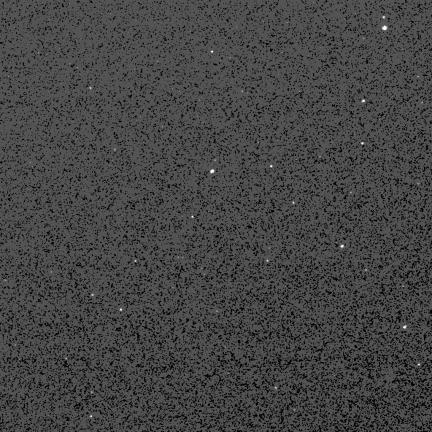blob: (382, 26, 387, 30), (403, 326, 407, 330), (211, 170, 215, 174), (362, 100, 366, 103), (120, 308, 123, 312), (361, 142, 365, 145), (341, 245, 344, 248), (92, 294, 95, 297), (383, 16, 386, 19), (192, 216, 195, 219), (418, 364, 421, 367), (211, 51, 214, 54), (270, 165, 273, 168), (267, 260, 270, 262), (292, 202, 295, 204)
